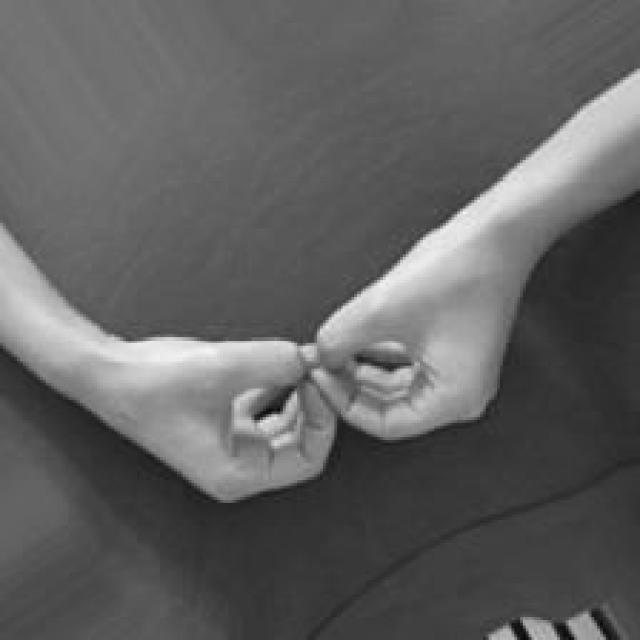B: (106, 202, 530, 504)
